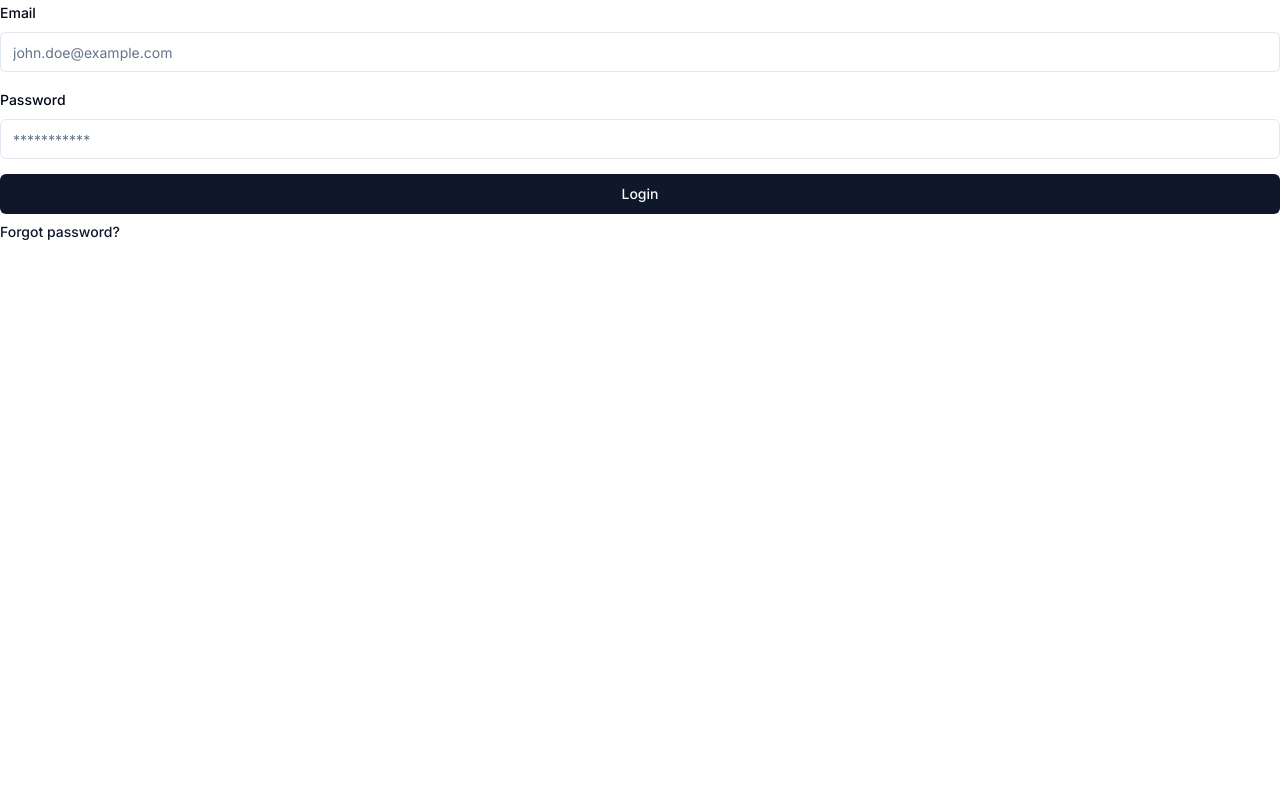
Test: Login form component › should open the Code Component when the two factor auth is activated and the response is ok
Step 1. Type "test@test.com" into the field labelled "Email" → x=640, y=52, box [0,32,1279,72]
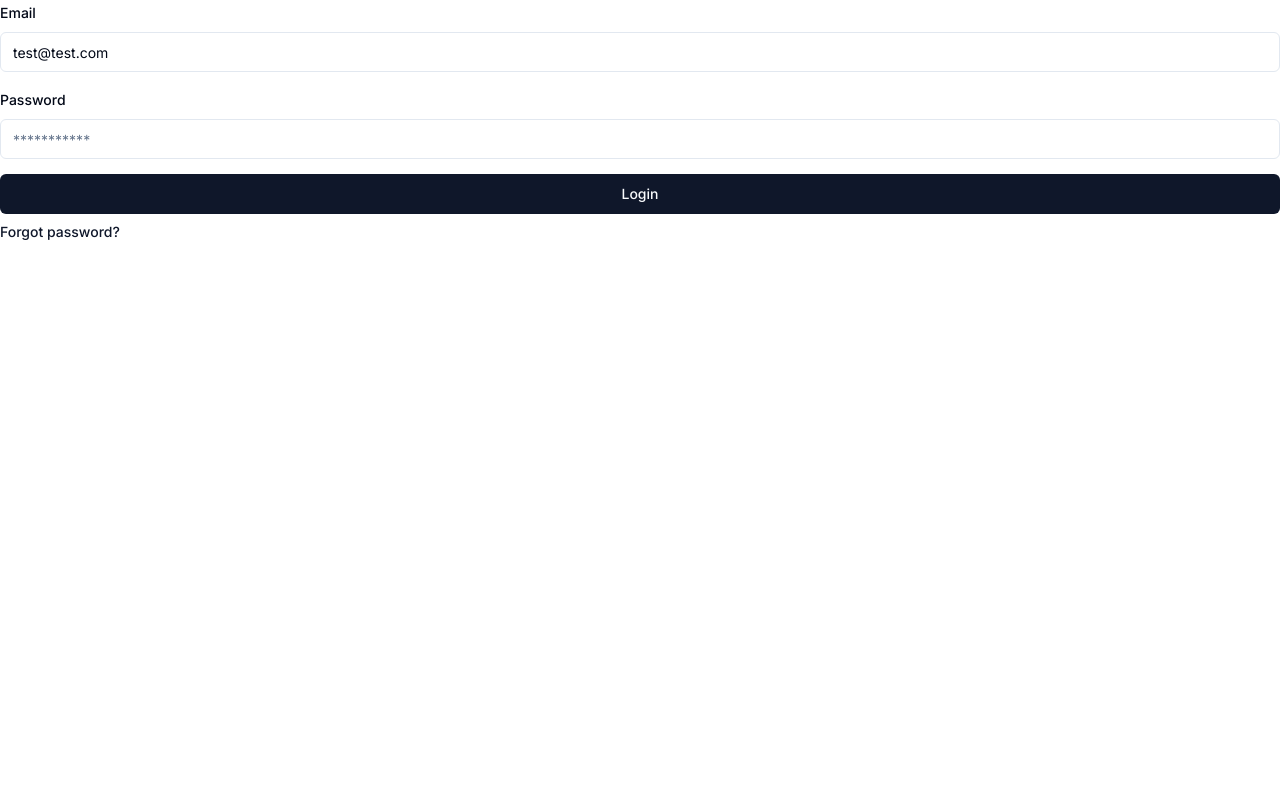
Step 2. Type "Testpassword1$" into the password field labelled "Password" → x=640, y=139, box [0,119,1279,159]
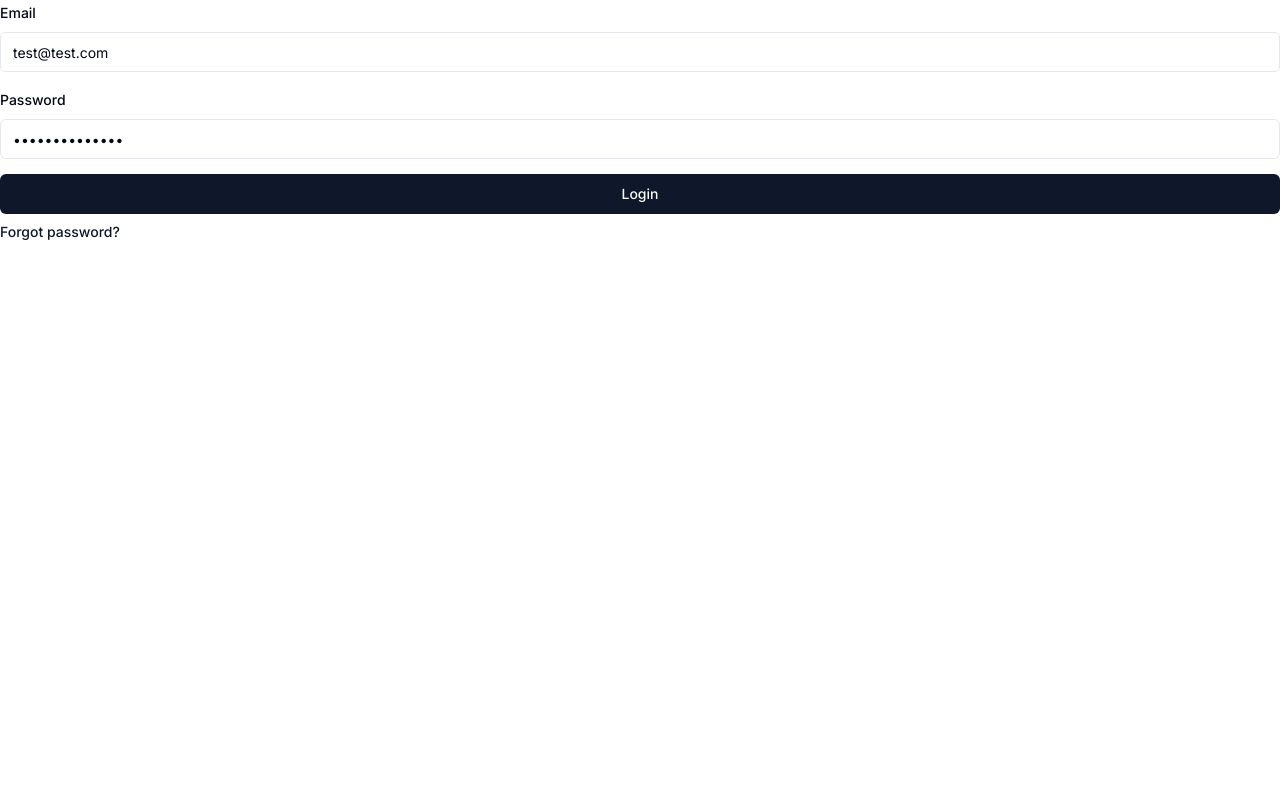
Step 3. Click the button "Login" → x=640, y=194, box [0,174,1279,214]
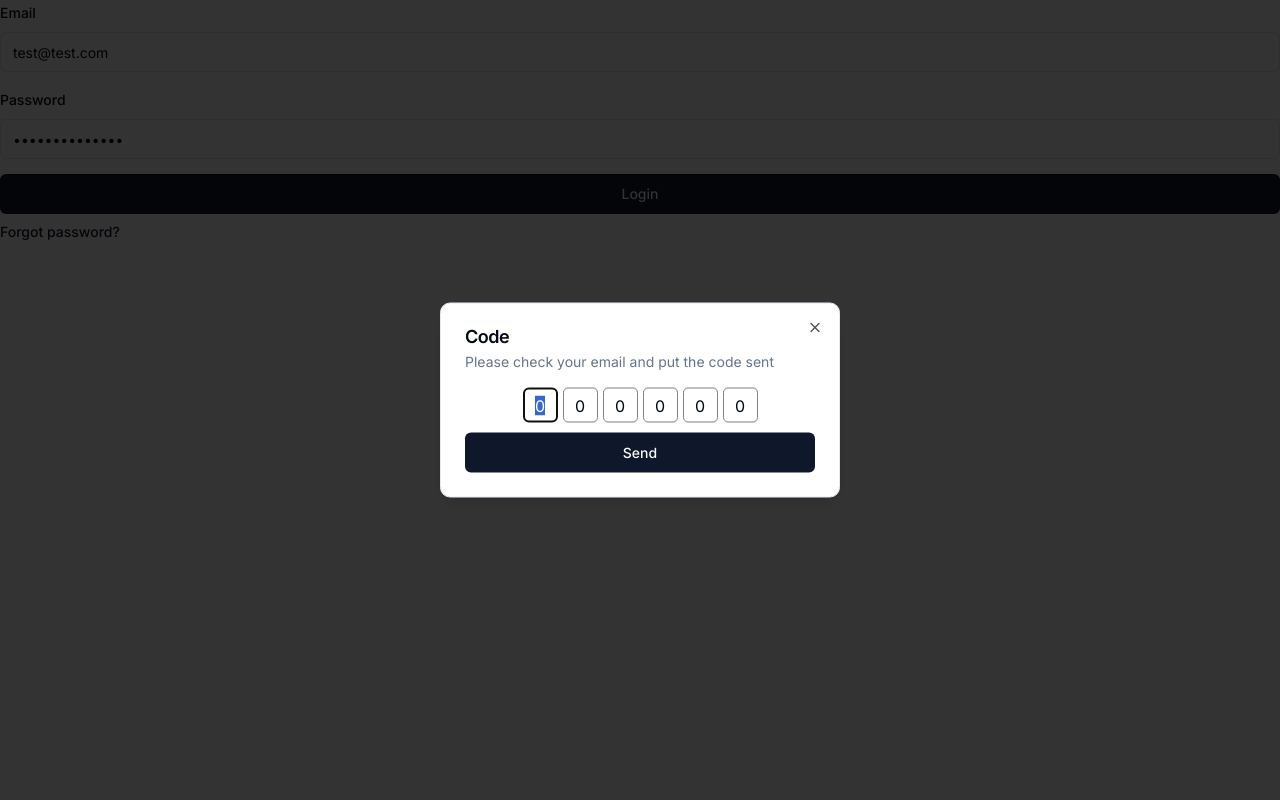
Now the text "Please check your email and put the code sent" is shown, box [465,352,815,372]
